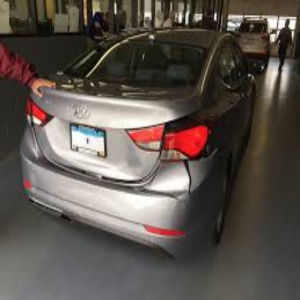bumper: (145, 153, 228, 262)
